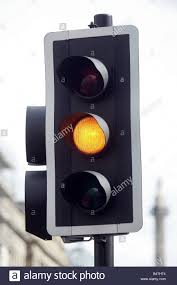amber: (41, 24, 146, 238), (49, 34, 138, 231), (61, 48, 121, 219), (67, 56, 113, 211)
